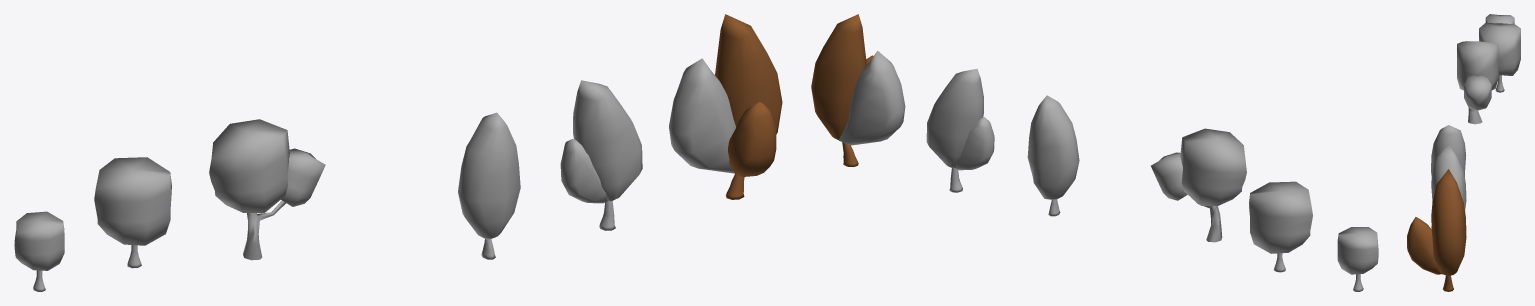
File: trees.fbx
3 views of the same model, side by side, from view 1: azimuth 30°, elevation 25°; view 2: azimuth 150°, elevation 25°; view 3: azimuth 270°, elevation 25° (orthographic). The views are drawn at different scales.
Visible parts, largest first — view 1: pCylinder3, pCylinder8, pCylinder2, pCylinder15, pCylinder9, pCylinder13, pCylinder14, pCylinder5, pCylinder11, pCylinder4, polySurface1; view 2: pCylinder13, pCylinder3, pCylinder15, pCylinder8, pCylinder2, pCylinder9, pCylinder5, pCylinder11, pCylinder4, polySurface1; view 3: pCylinder13, pCylinder3, pCylinder2, pCylinder14, pCylinder9, pCylinder8, pCylinder4, pCylinder5, polySurface1, pCylinder12, pCylinder6.
Boxes of the visible parts, box(x1,y1,x2,y2) form: pCylinder3: box(209, 119, 289, 212); pCylinder8: box(458, 112, 520, 239); pCylinder2: box(94, 157, 171, 245); pCylinder15: box(669, 58, 735, 173); pCylinder9: box(573, 80, 642, 201); pCylinder13: box(715, 14, 782, 134); pCylinder14: box(728, 102, 776, 176); pCylinder5: box(14, 211, 64, 270); pCylinder11: box(560, 139, 607, 203); pCylinder4: box(281, 148, 325, 206); polySurface1: box(243, 200, 285, 260); pCylinder13: box(811, 14, 866, 140); pCylinder3: box(1180, 128, 1246, 205); pCylinder15: box(839, 50, 905, 145); pCylinder8: box(1027, 95, 1079, 200); pCylinder2: box(1249, 181, 1312, 253); pCylinder9: box(926, 68, 983, 168); pCylinder5: box(1337, 227, 1378, 274); pCylinder11: box(955, 117, 994, 170); pCylinder4: box(1151, 152, 1187, 200); polySurface1: box(1192, 198, 1222, 242); pCylinder13: box(1431, 169, 1466, 276); pCylinder3: box(1457, 41, 1498, 90); pCylinder2: box(1479, 23, 1520, 75); pCylinder14: box(1407, 217, 1442, 274); pCylinder9: box(1431, 144, 1466, 209); pCylinder8: box(1431, 125, 1466, 176); pCylinder4: box(1464, 75, 1491, 110); pCylinder5: box(1485, 14, 1514, 24); polySurface1: box(1468, 107, 1482, 124); pCylinder12: box(1443, 275, 1453, 291); pCylinder6: box(1495, 75, 1504, 92).
Bounding box in the file's own units: 1033 × 251 × 220.
